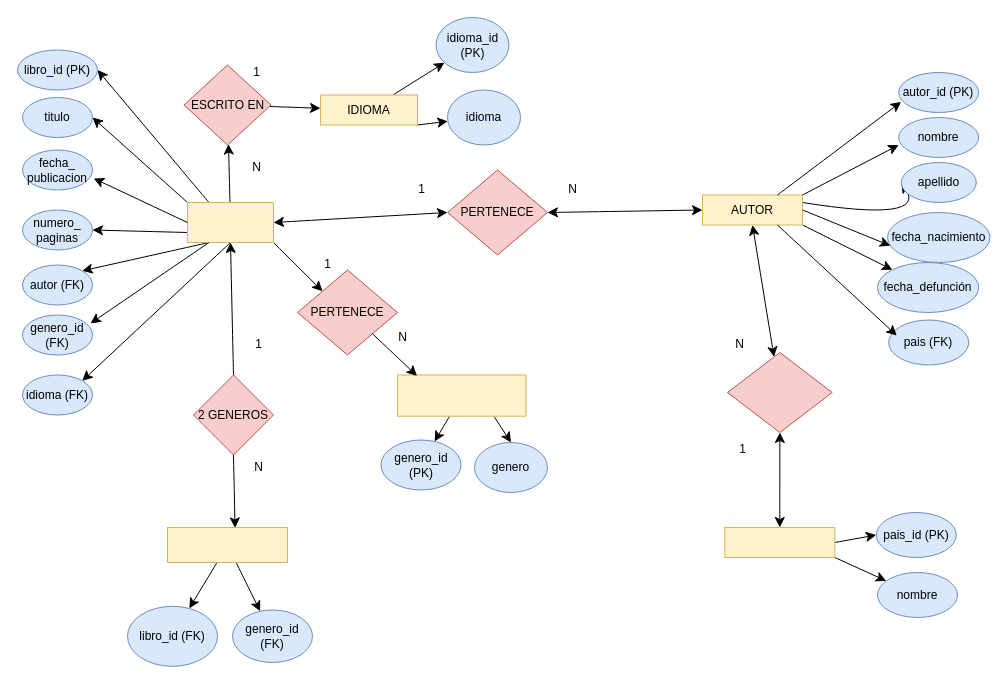
This 1008x684 diagram has some shape labels left out. The centre of each missing label's shape, as x and y in pixels:
GÉNERO: point 461,395
LIBRO: point 230,222
LIBRO_GENERO: point 227,544
NACIONALIDAD: point 779,392
PAÍS: point 779,542
